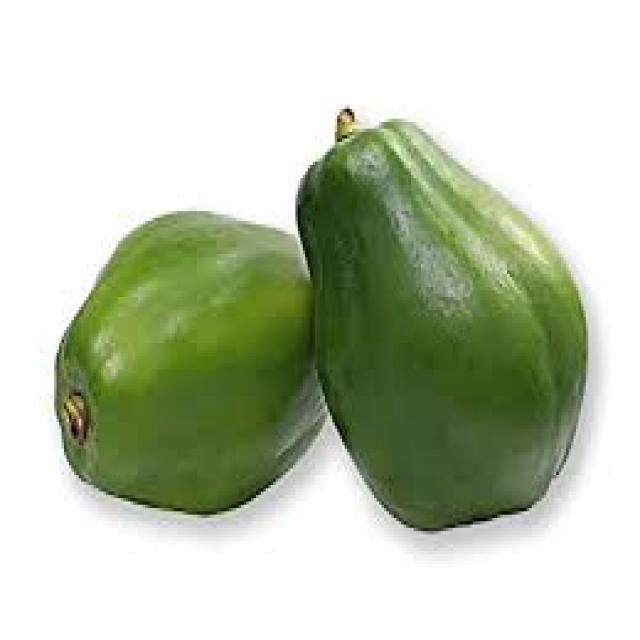Pepaya unrippen: (294, 114, 602, 538), (45, 203, 325, 543)
